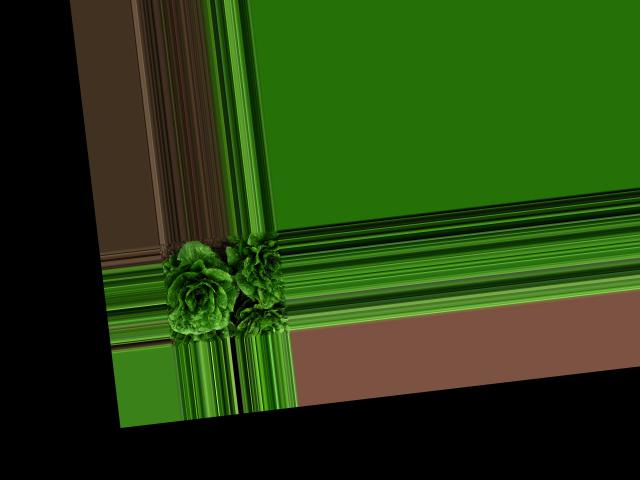lettuce: (230, 232, 288, 312)
